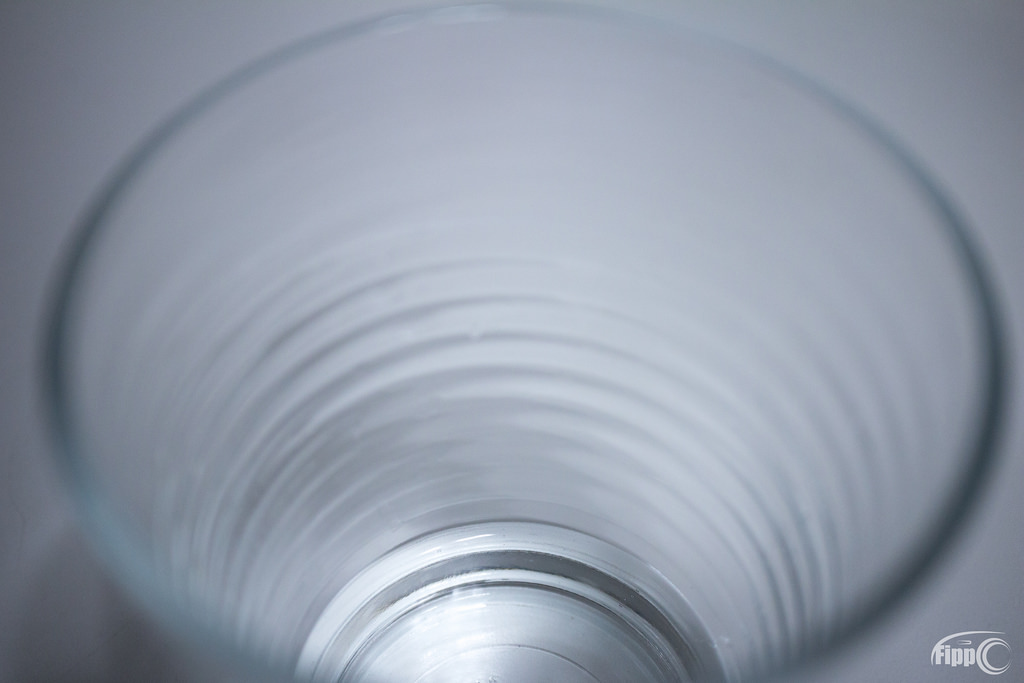glass of water: (68, 23, 1019, 683)
